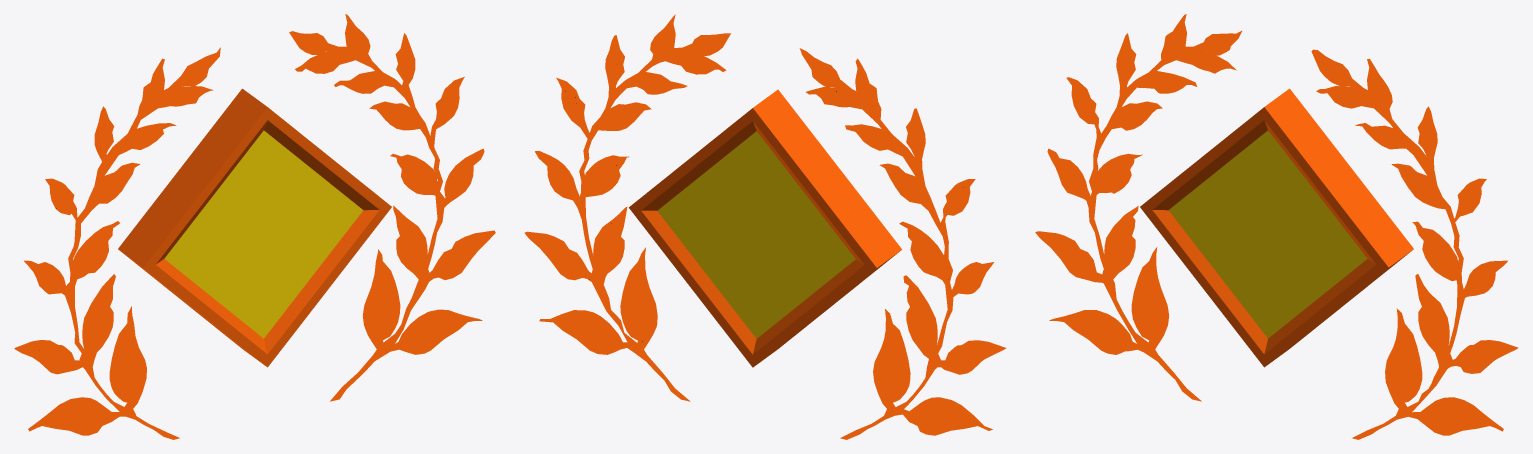
The model's file is M_O_Buffs_QQ.fbx.
The picture shows the model from 3 angles, left to right: view 1: azimuth 30°, elevation 25°; view 2: azimuth 150°, elevation 25°; view 3: azimuth 330°, elevation 25°; orthographic projection.
Parts seen in each view (by area): view 1: M_Buffs1, M_Buffs_Crown_Leaves1; view 2: M_Buffs1, M_Buffs_Crown_Leaves1; view 3: M_Buffs1, M_Buffs_Crown_Leaves1.
Part boxes in pixels (bbox=[...]): M_Buffs1: bbox=[118, 88, 391, 367]; M_Buffs_Crown_Leaves1: bbox=[14, 14, 495, 439]; M_Buffs1: bbox=[629, 89, 901, 367]; M_Buffs_Crown_Leaves1: bbox=[524, 14, 1006, 439]; M_Buffs1: bbox=[1140, 88, 1413, 367]; M_Buffs_Crown_Leaves1: bbox=[1035, 14, 1518, 439].
Size of the model in its own units: 5.47 by 4.17 by 0.5.
